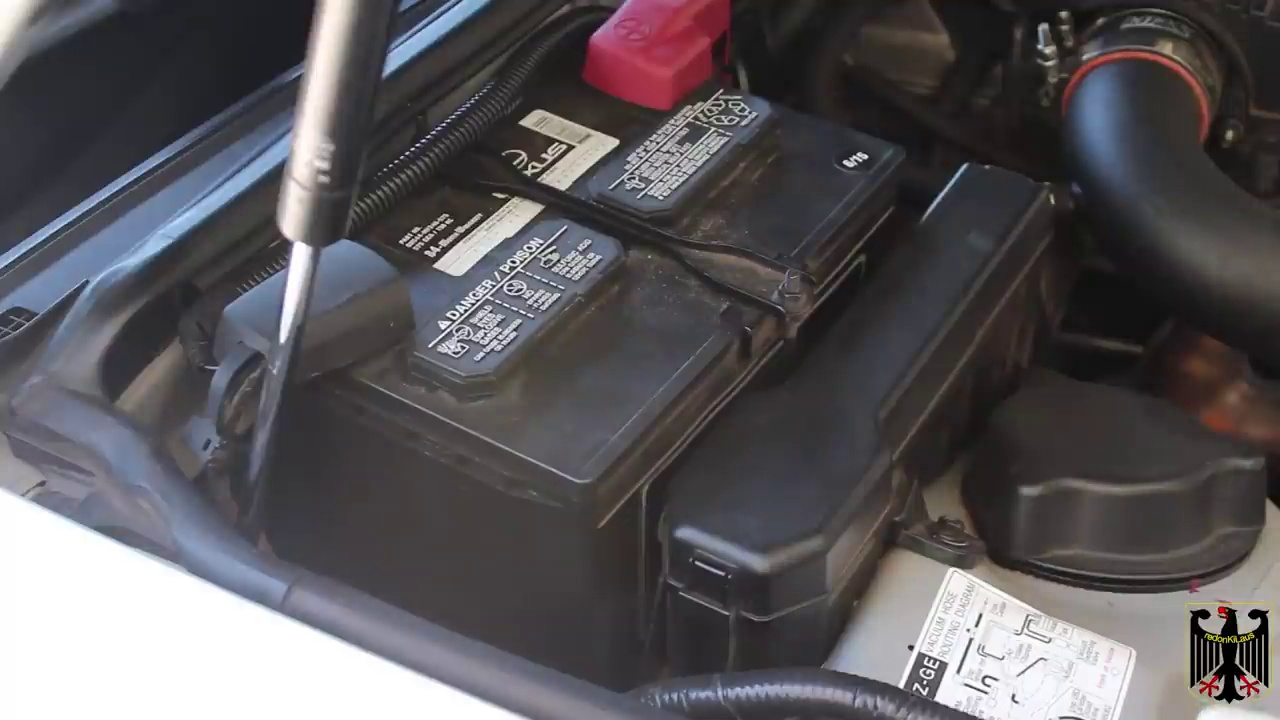battery: (169, 27, 912, 510)
pos_connected: (557, 2, 768, 107)
